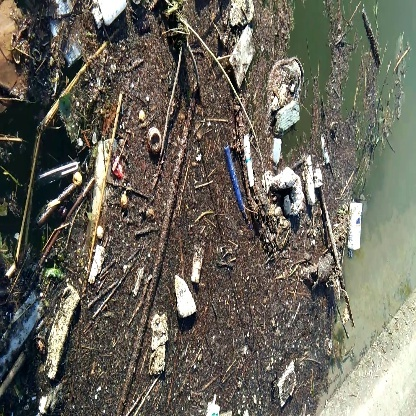branch: (359, 8, 386, 68)
milk-box: (346, 198, 371, 252)
plastic-garbage: (267, 55, 305, 133)
